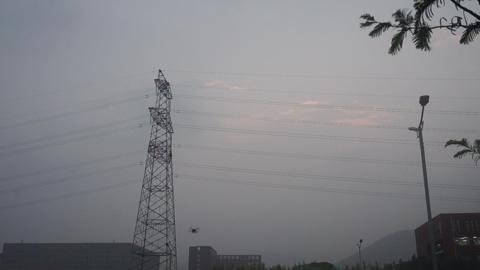UAV: (188, 227, 200, 234)
